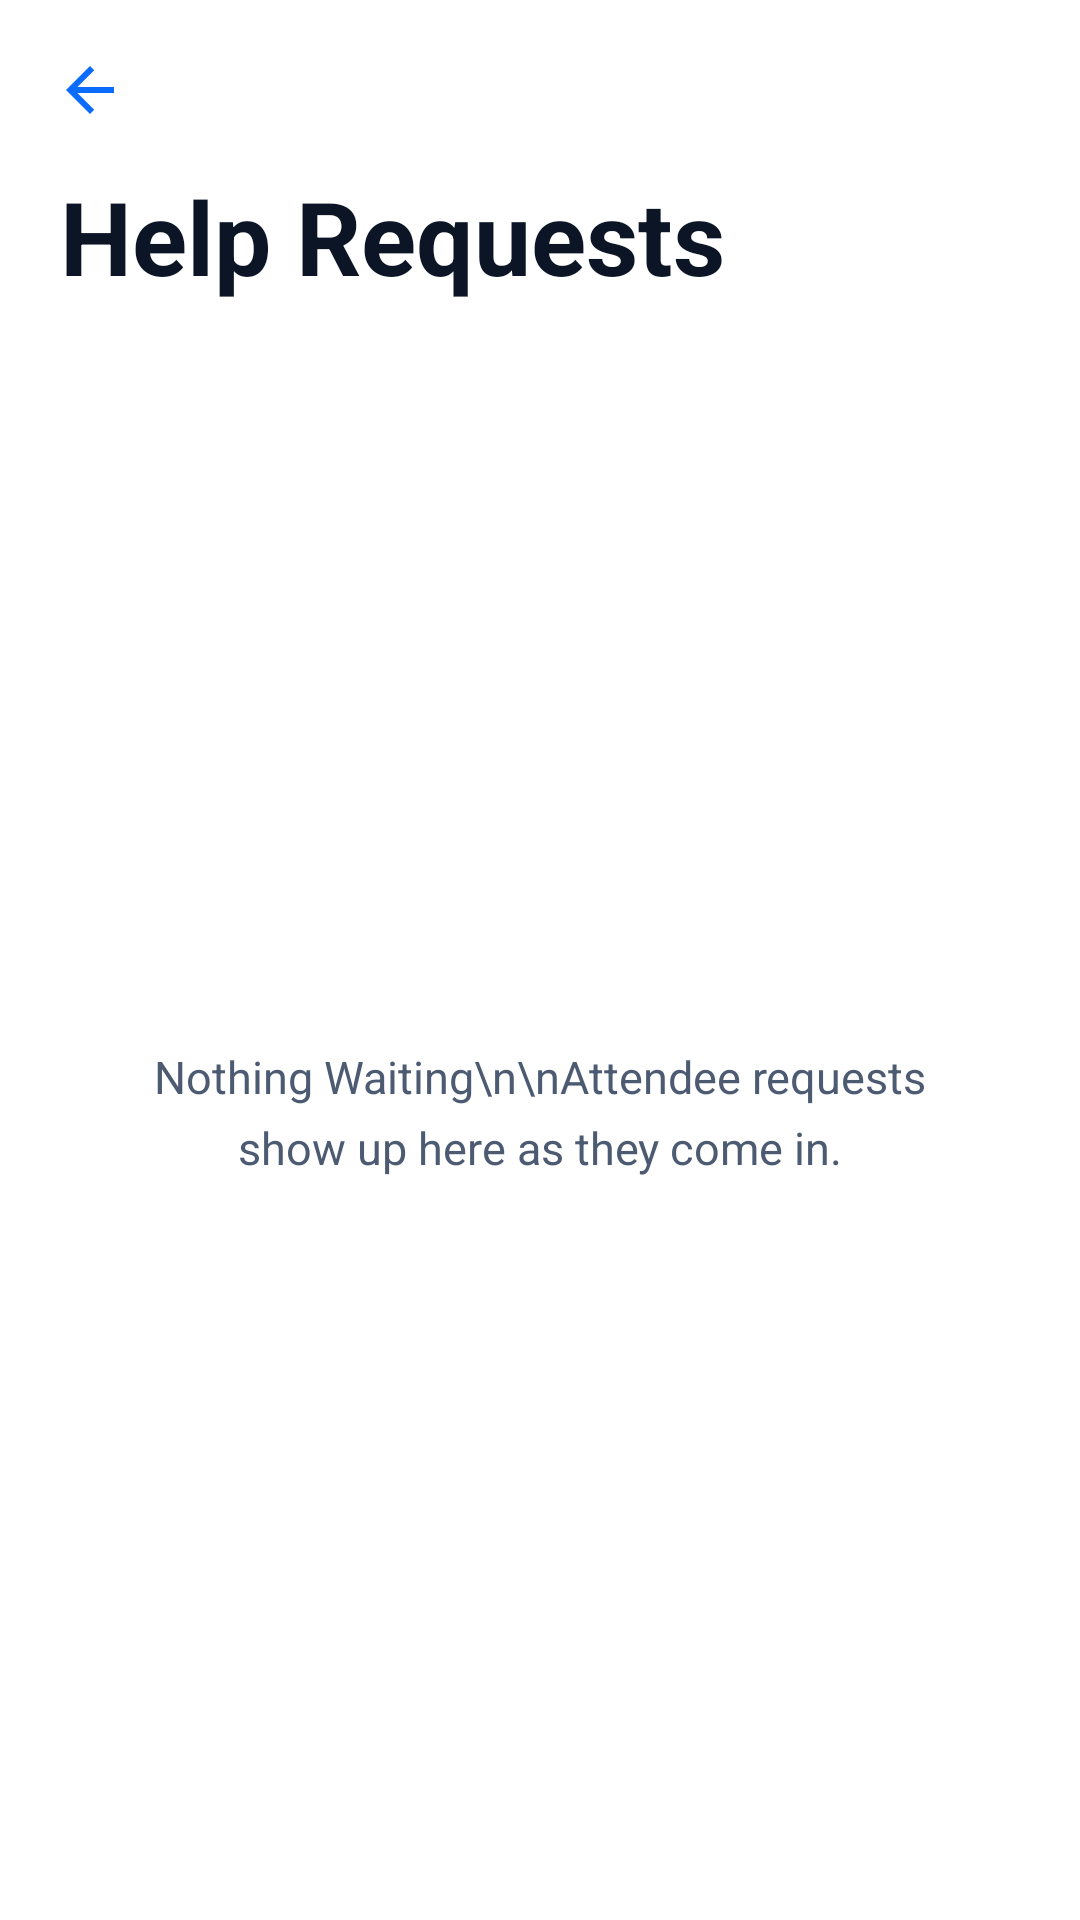

Named icons in this screenshot (1080×1920) and their centers, (x=x, y=y):
Back: (x=90, y=90)
